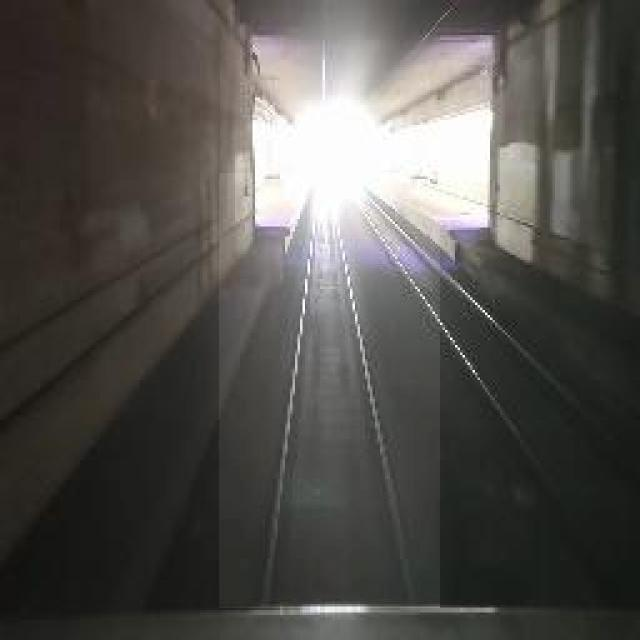rail: (221, 175, 441, 609)
